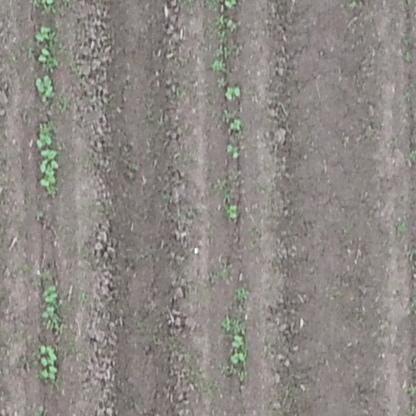vc: (36, 345, 61, 381), (39, 150, 59, 190), (33, 74, 55, 99), (34, 128, 54, 148), (223, 83, 244, 102), (33, 23, 53, 41), (36, 43, 53, 62), (225, 142, 243, 159), (38, 305, 56, 322), (225, 202, 240, 221), (43, 284, 59, 301), (228, 116, 243, 133), (230, 351, 246, 365), (230, 332, 243, 347)
